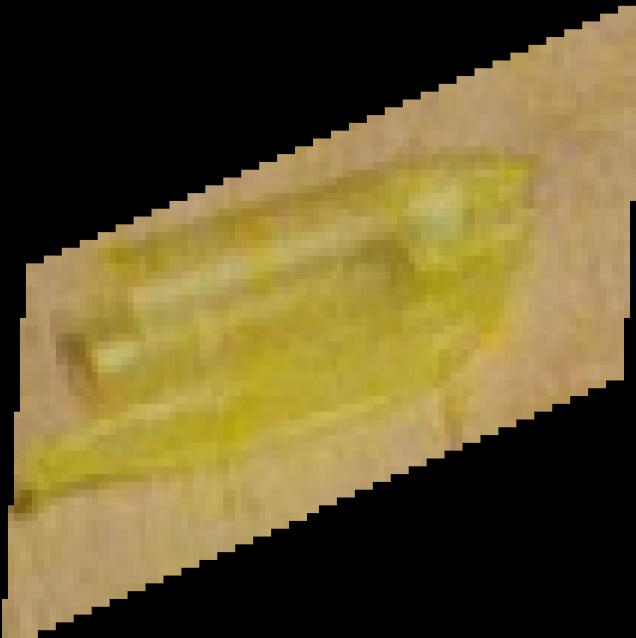yellow: (0, 0, 636, 638)
